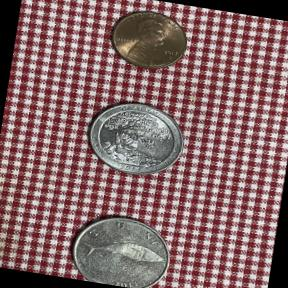coin: (77, 92, 193, 185), (59, 204, 180, 288), (100, 3, 195, 79)
